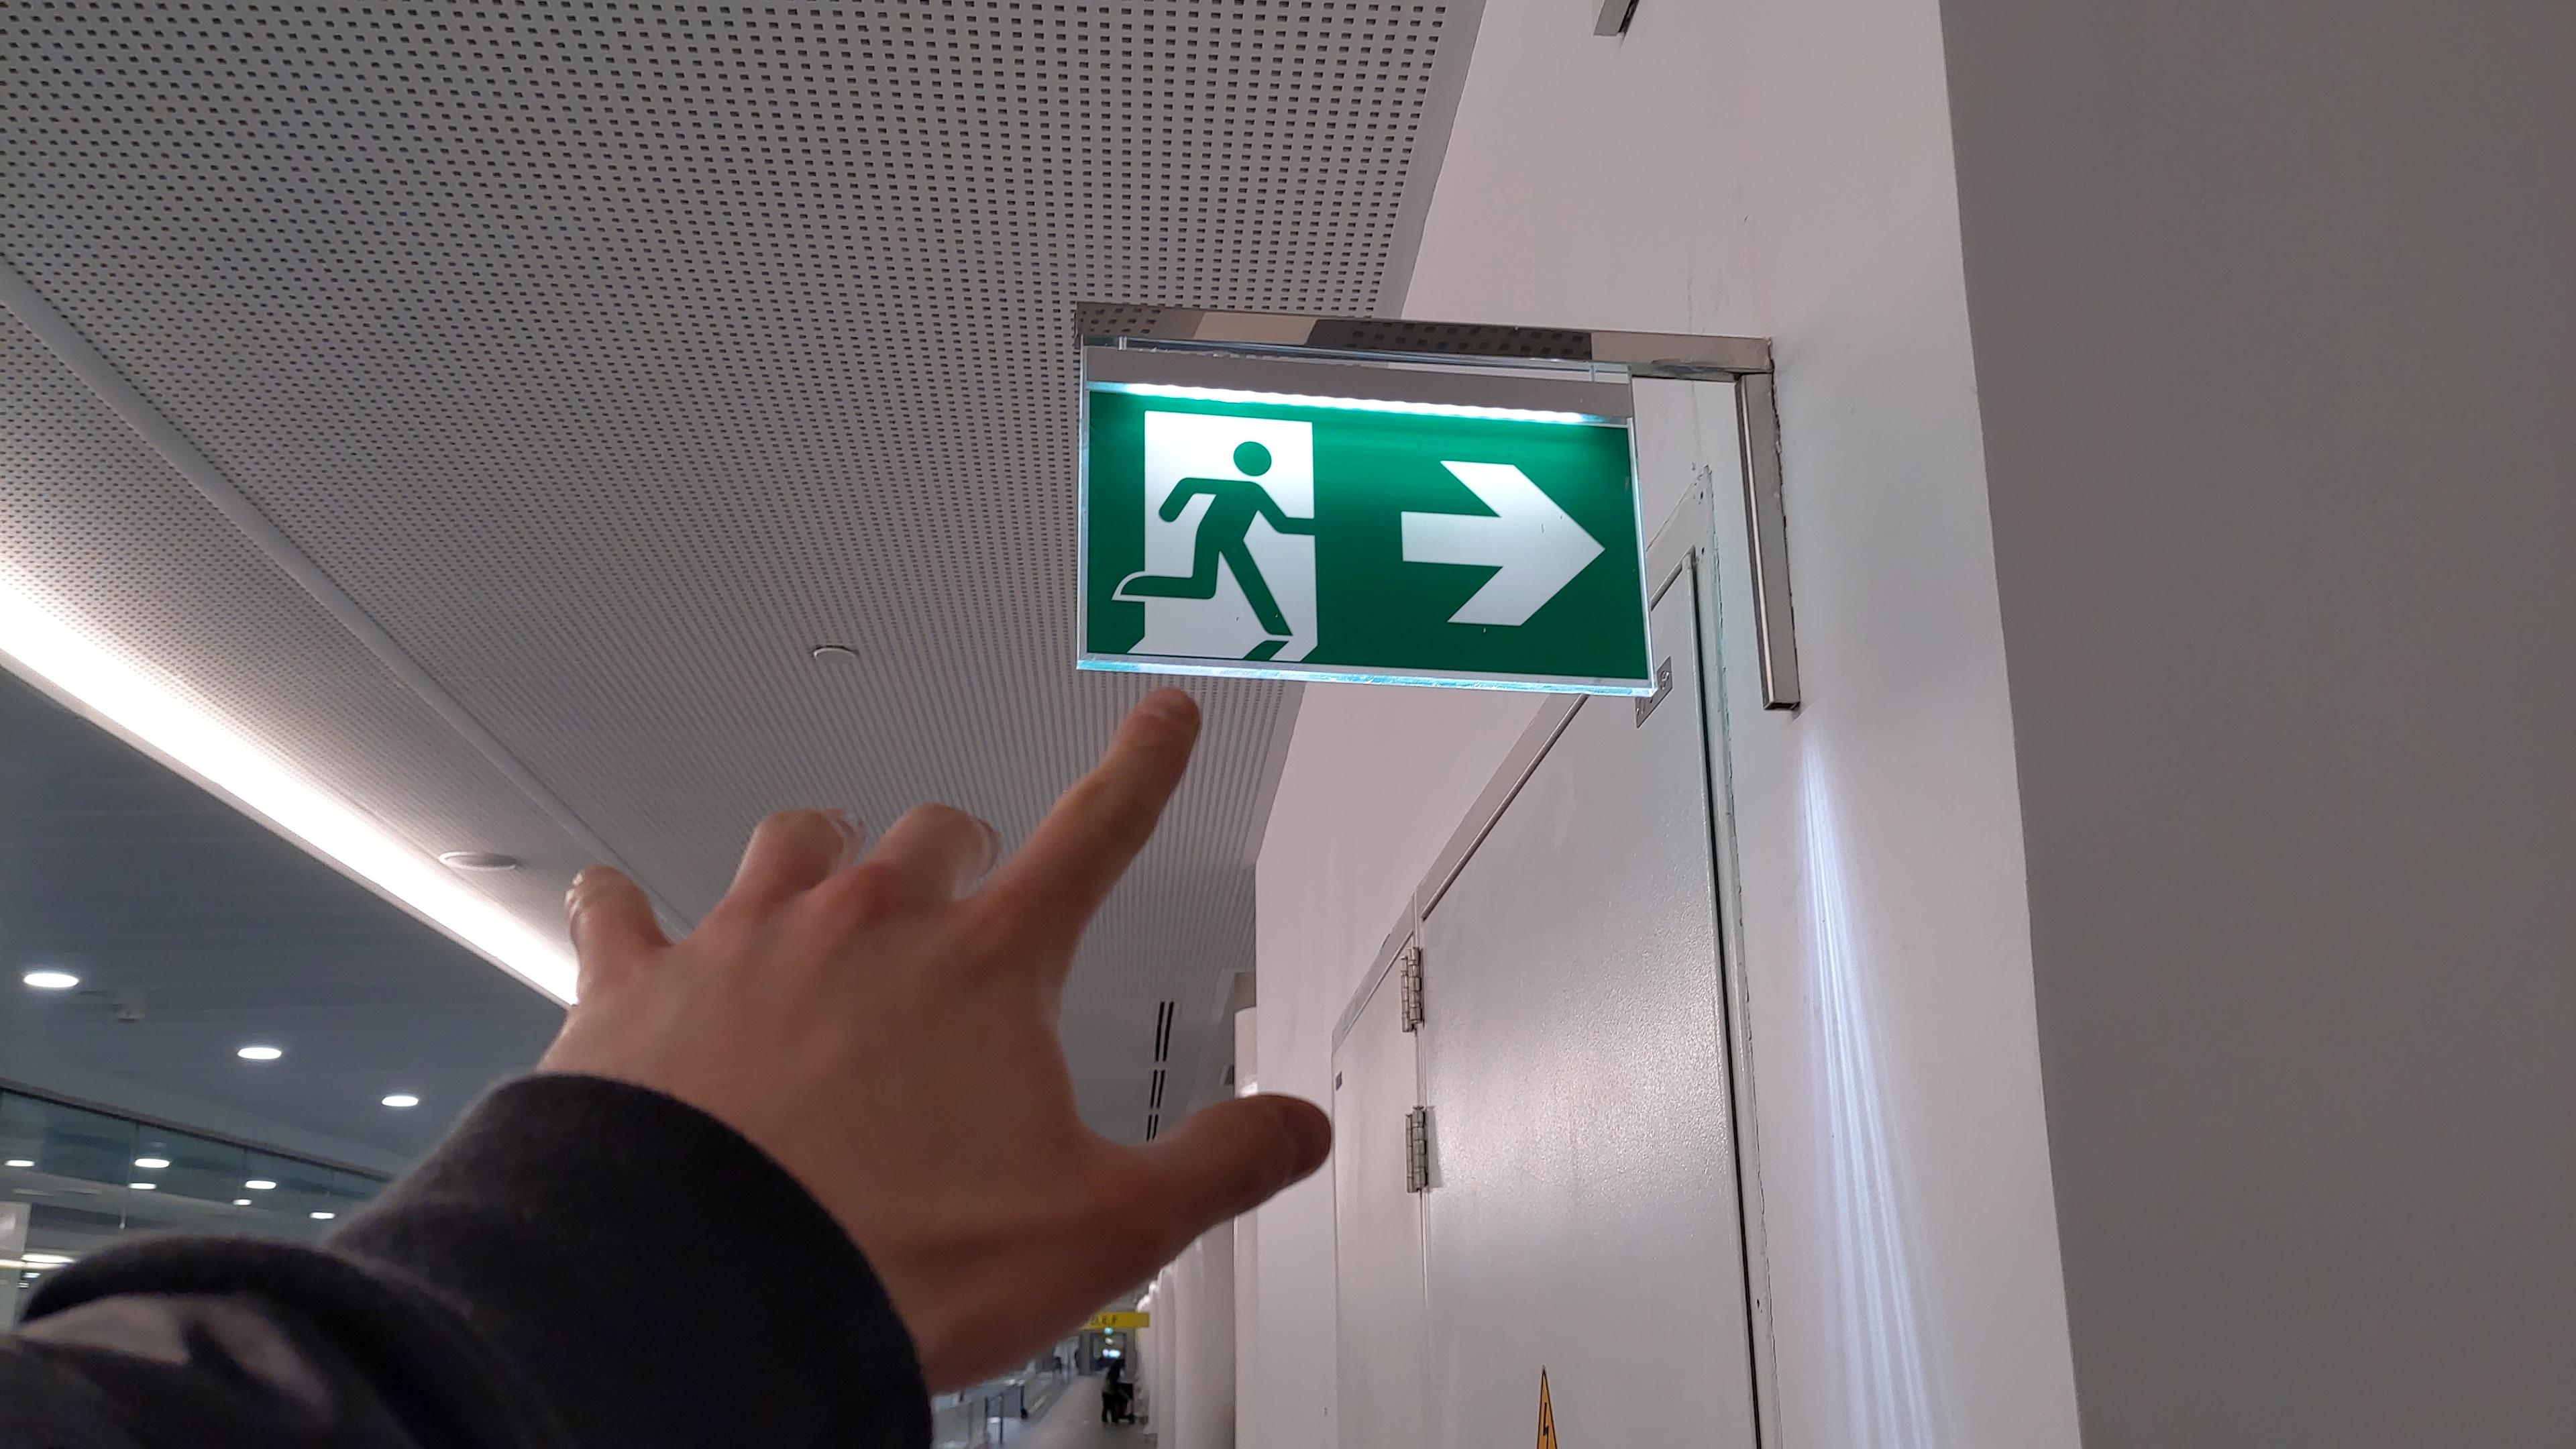emergency exit: (1108, 410, 1330, 671)
emergency right arrow: (1392, 451, 1615, 637)
